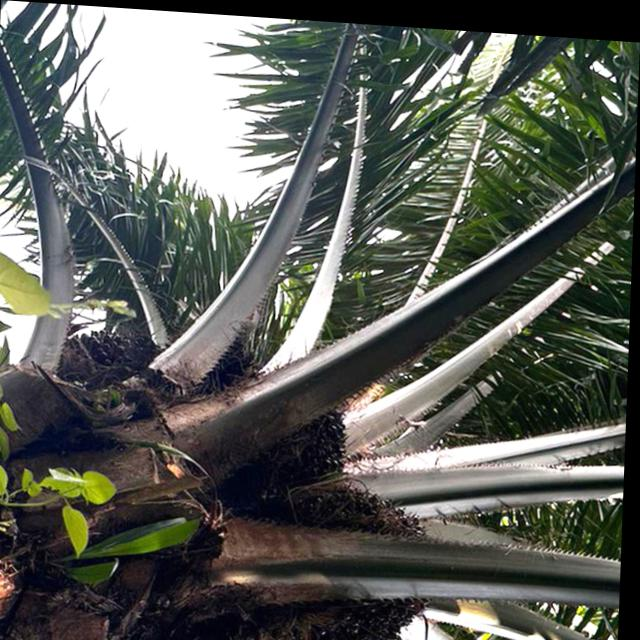almost: (260, 470, 460, 640), (229, 365, 363, 508)
